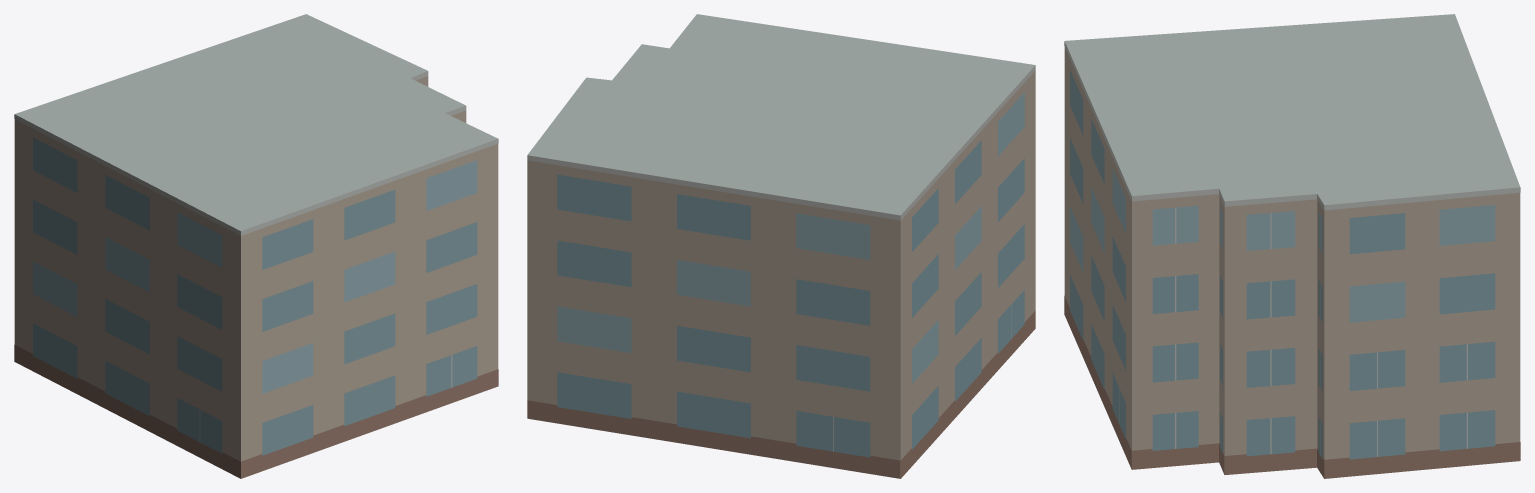
Rendered from survey-upis-32902645.glb.
3 renders of one model, left to right at view 1: azimuth 30°, elevation 25°; view 2: azimuth 150°, elevation 25°; view 3: azimuth 270°, elevation 25°, orthographic. The views are drawn at different scales.
Parts seen in each view (by area): view 1: survey-upis-32902645.tmp; view 2: survey-upis-32902645.tmp; view 3: survey-upis-32902645.tmp.
Part boxes in pixels (bbox=[...]): survey-upis-32902645.tmp: bbox=[14, 14, 498, 478]; survey-upis-32902645.tmp: bbox=[527, 14, 1035, 478]; survey-upis-32902645.tmp: bbox=[1064, 14, 1520, 478].
Bounding box in the file's own units: 18.9 × 12.6 × 19.04.
